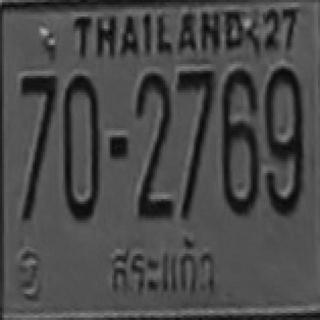N00: (62, 74, 99, 178), (263, 65, 302, 158)
N07: (176, 69, 213, 156), (20, 74, 57, 154)
N09: (263, 74, 302, 213), (263, 97, 302, 213)
P55: (104, 236, 221, 301)
